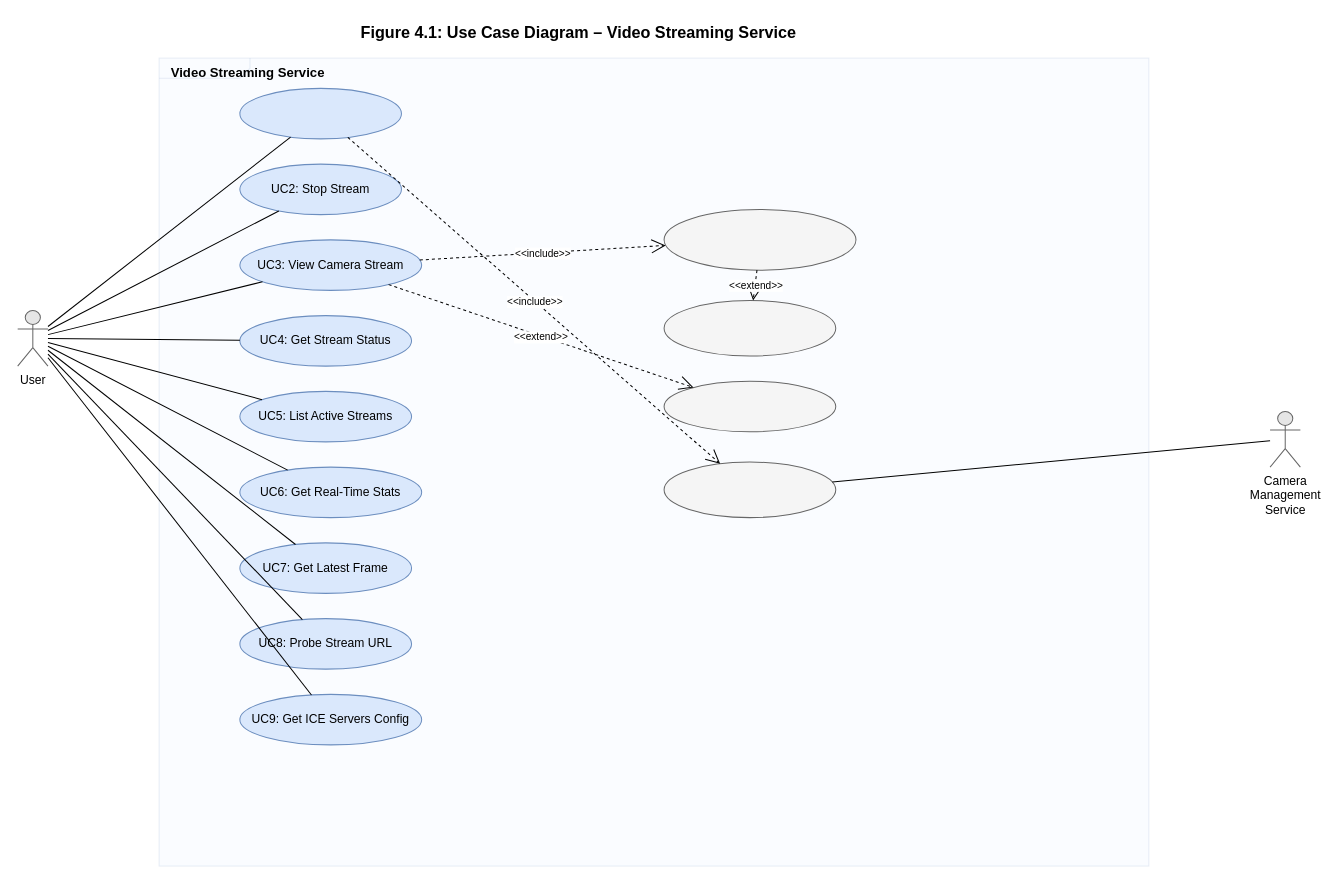
This 1338x884 diagram has some shape labels left out. The shapes that lost their labels are listed below. From the top down, each one's centre as x and y in pixels, then its label:
At point (320, 113): "UC1: Start Stream".
At point (759, 239): "UC10: Negotiate WebRTC\n(SDP Offer/Answer)".
At point (749, 327): "UC11: Exchange ICE\nCandidates".
At point (749, 406): "UC12: Disconnect Viewer".
At point (749, 489): "UC13: Fetch Camera\nMetadata".
